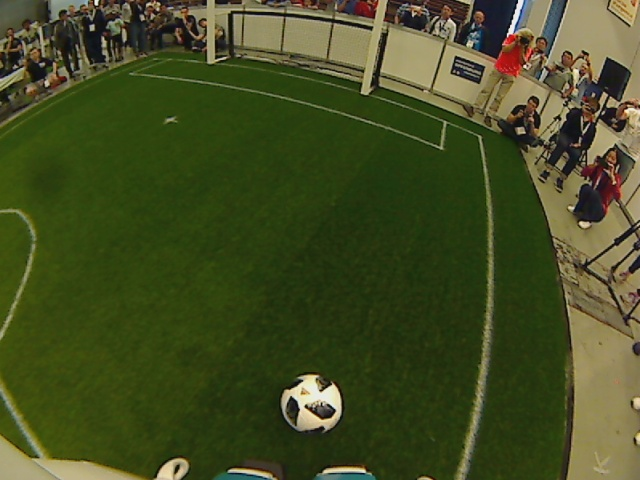ball: (277, 372, 344, 436)
